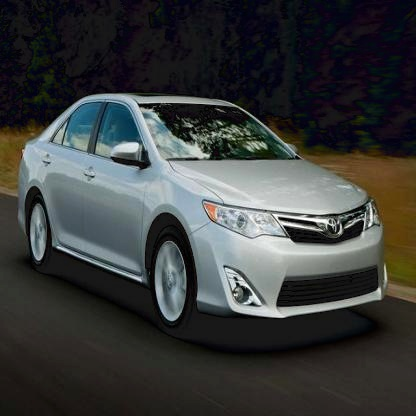Vehicle: (16, 89, 390, 337)
